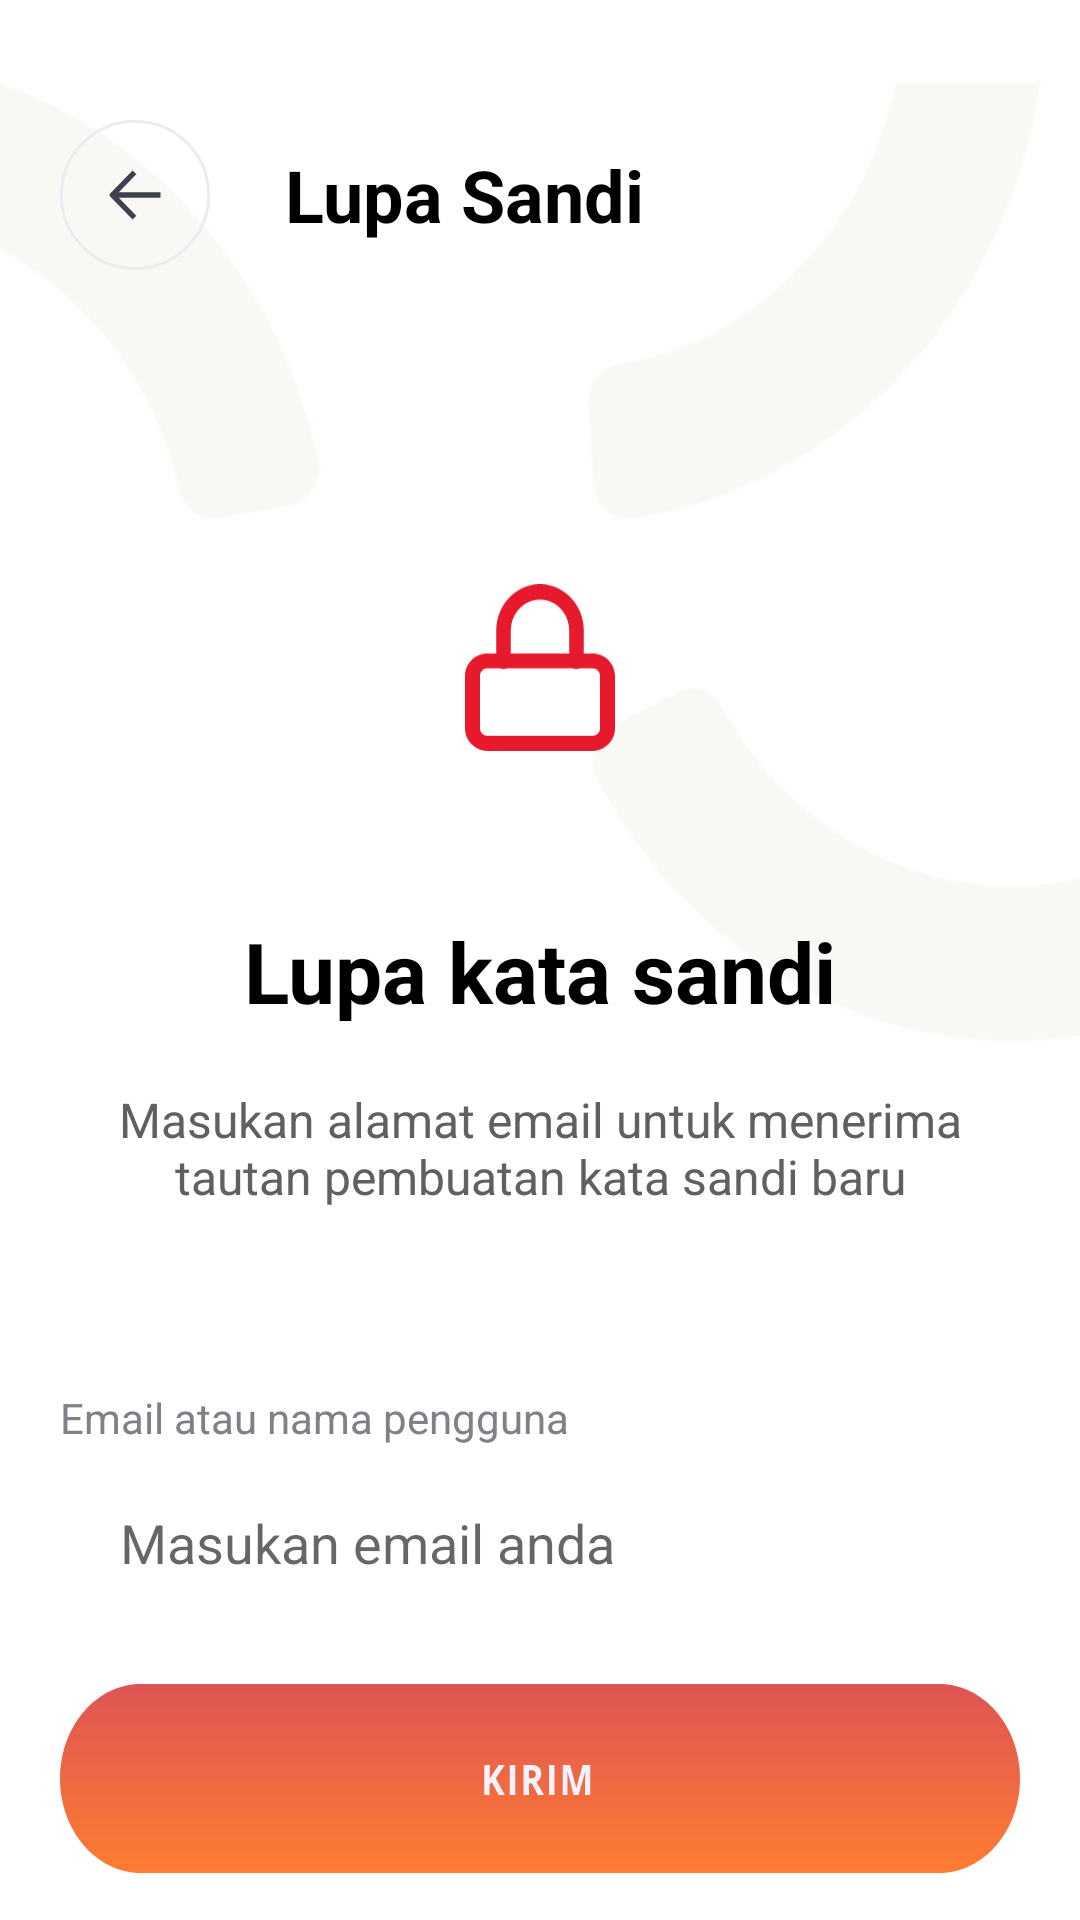

Named icons in this screenshot (1080x1920) and their centers, (x=x, y=y):
back: (x=135, y=195)
